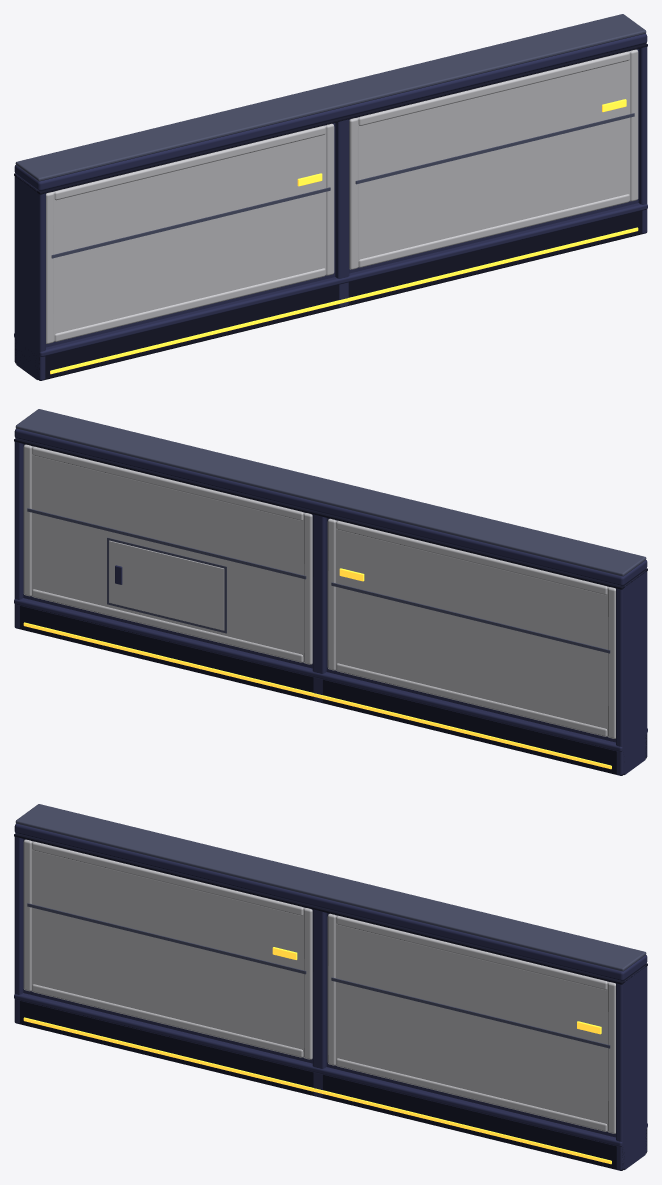
Rendered from int.halfwall.l3.55.glb.
3 renders of one model, top to bottom at view 1: azimuth 30°, elevation 25°; view 2: azimuth 150°, elevation 25°; view 3: azimuth 330°, elevation 25°, orthographic.
Visible parts, largest first — view 1: int.halfwall.l3.55; view 2: int.halfwall.l3.55; view 3: int.halfwall.l3.55.
Boxes of the visible parts, x1,y1,x2,y2 form: int.halfwall.l3.55: (14,14,647,380); int.halfwall.l3.55: (14,409,647,775); int.halfwall.l3.55: (14,804,647,1170).
Size of the model in its own units: 3.56 by 1.13 by 0.278.
